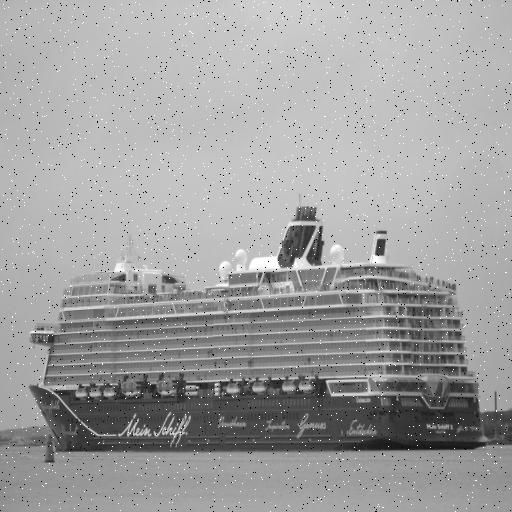cruises: (26, 193, 491, 460)
